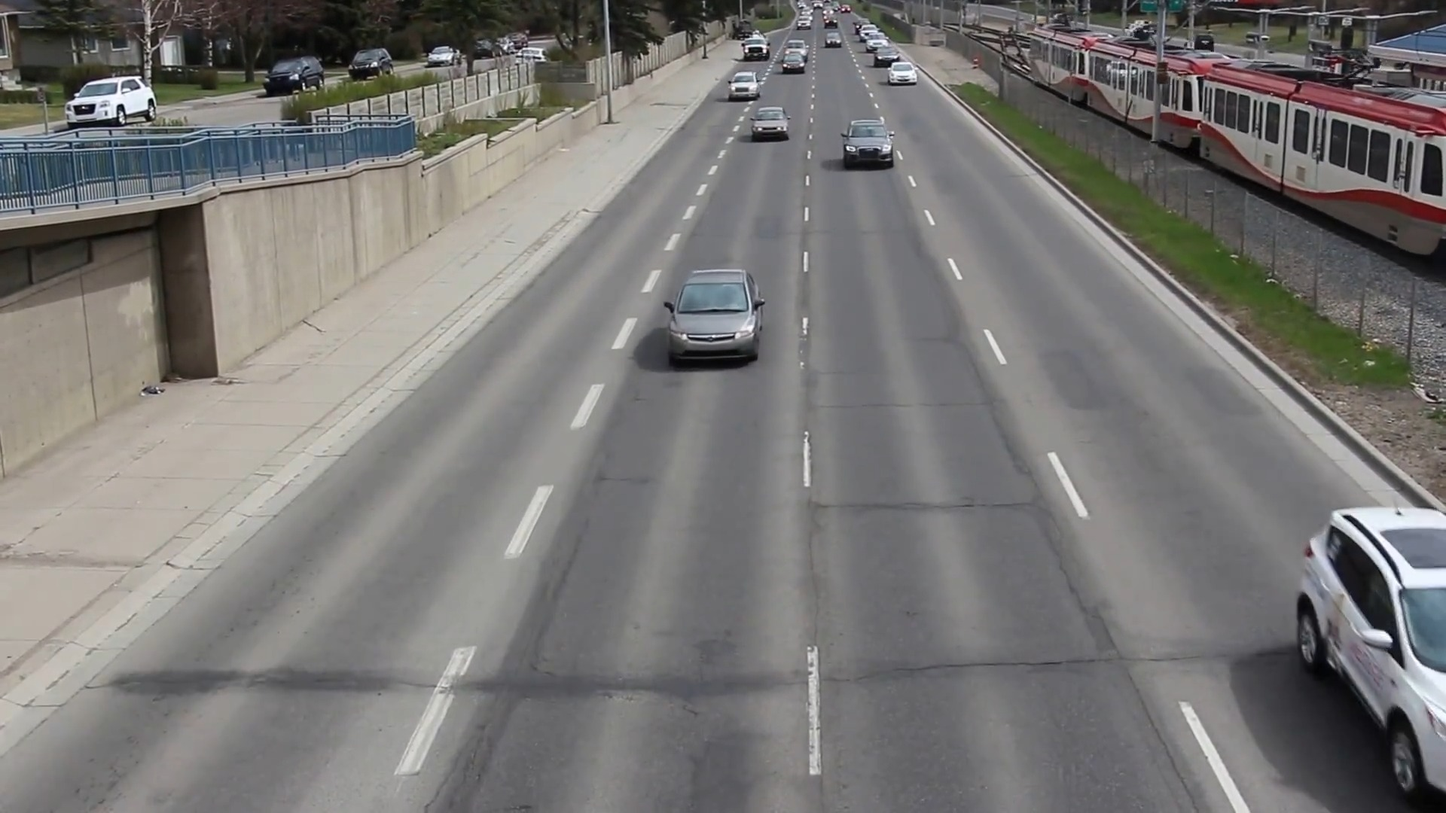car: (656, 269, 775, 369), (840, 115, 894, 172), (746, 108, 792, 140)
